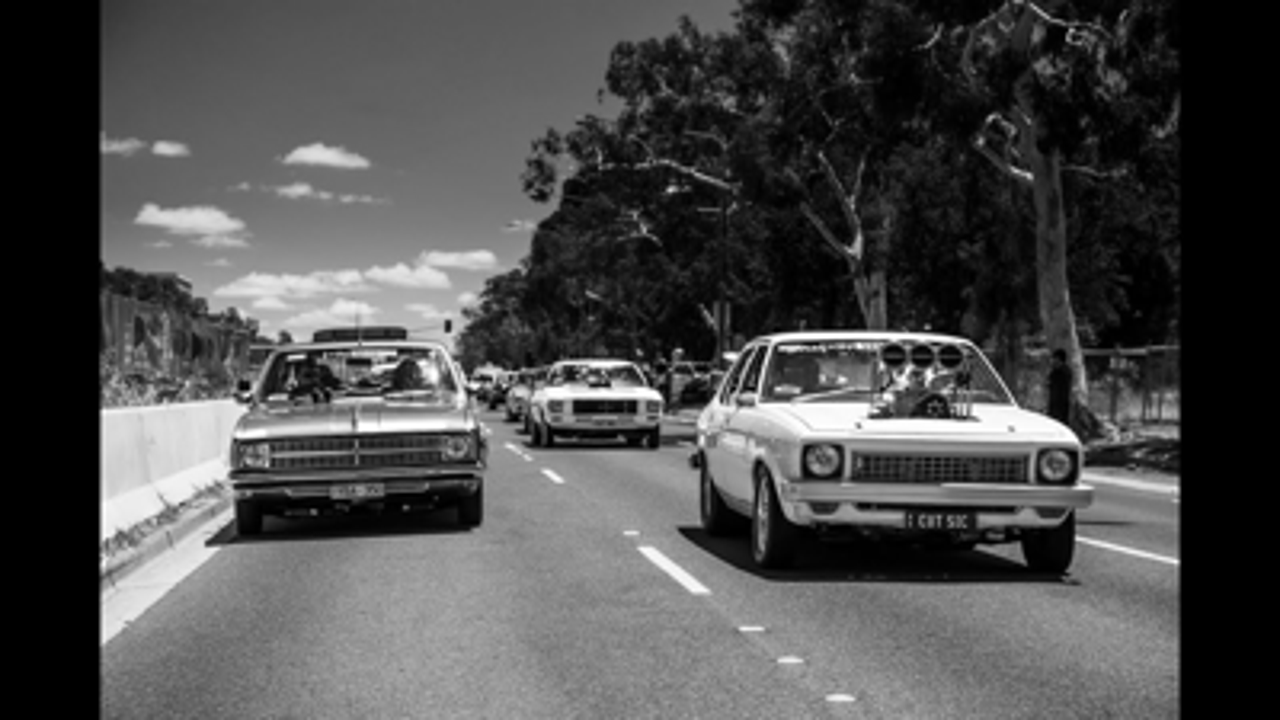license: (895, 504, 987, 538), (323, 477, 389, 504)
